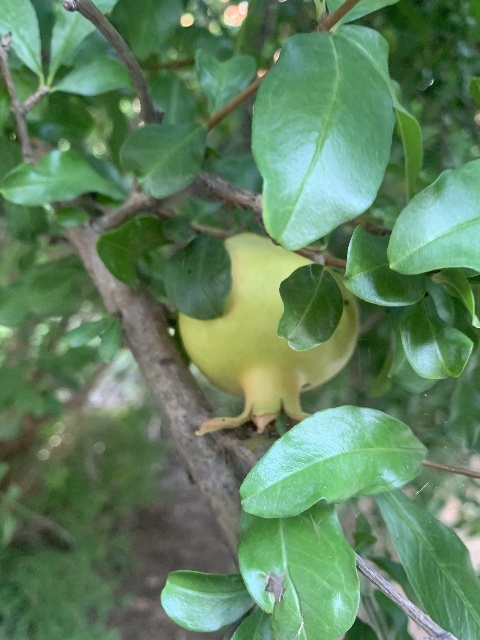mid-growth: (178, 232, 357, 442)
